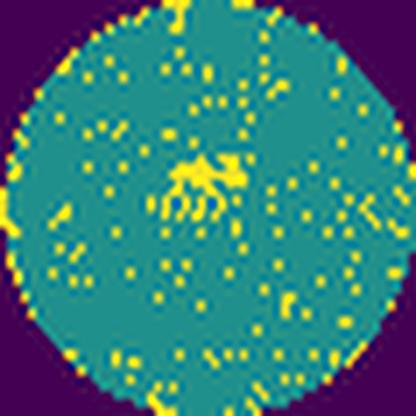Center: (147, 144, 250, 232)
